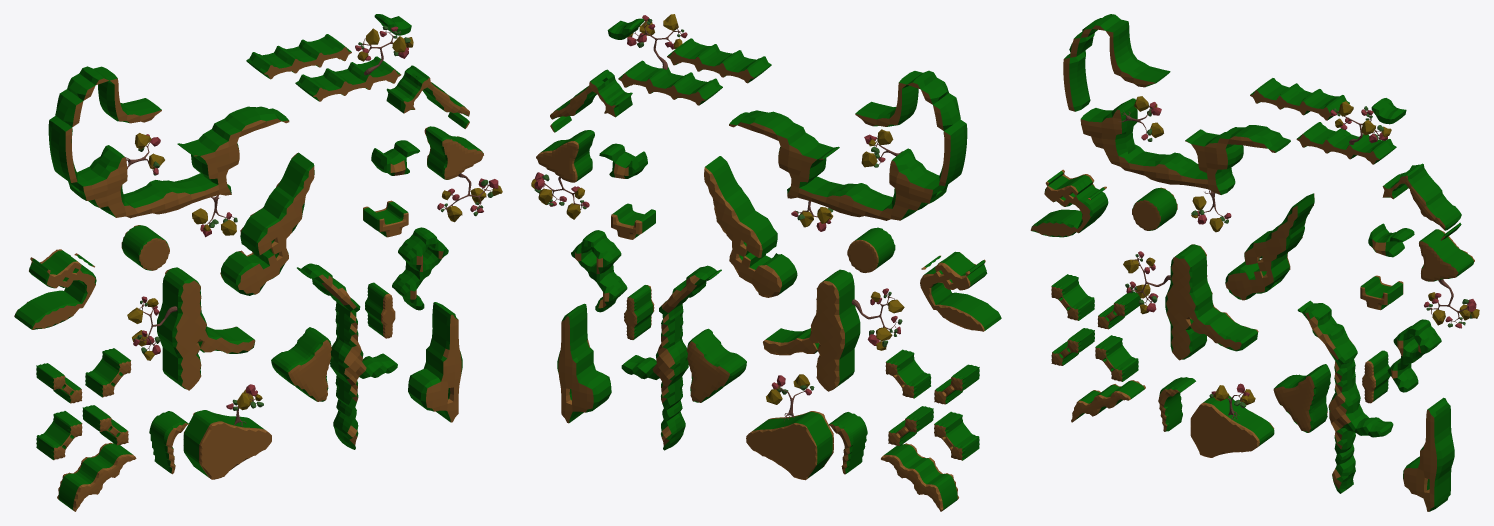
Rendered from JungleExport.fbx.
The picture shows the model from 3 angles, left to right: view 1: azimuth 30°, elevation 25°; view 2: azimuth 150°, elevation 25°; view 3: azimuth 330°, elevation 25°; orthographic projection. The views are drawn at different scales.
Parts seen in each view (by area): view 1: Cylinder.009, Cube.029, Cube.004, Cylinder.021, Cube.035, Cylinder.020, Cube.031, Cylinder.019, Cylinder.017, Cube.026, Cube.042, Cube.039 (+11 smaller); view 2: Cylinder.009, Cube.029, Cube.004, Cylinder.021, Cube.035, Cylinder.020, Cube.031, Cylinder.019, Cylinder.017, Cube.026, Cube.042, Cube.039 (+11 smaller); view 3: Cylinder.009, Cube.004, Cylinder.021, Cube.029, Cube.035, Cylinder.020, Cube.031, Cylinder.019, Cylinder.008, Cube.042, Cube.039, Cube.026 (+12 smaller).
Boxes of the visible parts, x1=… form: Cylinder.009: x1=48, y1=66, x2=289, y2=218; Cube.029: x1=220, y1=152, x2=314, y2=295; Cube.004: x1=157, y1=267, x2=255, y2=390; Cylinder.021: x1=297, y1=263, x2=397, y2=449; Cube.035: x1=183, y1=410, x2=271, y2=479; Cylinder.020: x1=408, y1=302, x2=462, y2=422; Cube.031: x1=14, y1=249, x2=96, y2=329; Cylinder.019: x1=271, y1=327, x2=331, y2=401; Cylinder.017: x1=57, y1=442, x2=136, y2=511; Cube.026: x1=392, y1=227, x2=448, y2=310; Cube.042: x1=246, y1=34, x2=351, y2=79; Cube.039: x1=295, y1=56, x2=401, y2=101; Cylinder.009: x1=729, y1=70, x2=967, y2=220; Cube.029: x1=704, y1=156, x2=797, y2=297; Cube.004: x1=763, y1=269, x2=860, y2=391; Cylinder.021: x1=621, y1=265, x2=721, y2=450; Cube.035: x1=746, y1=411, x2=833, y2=480; Cylinder.020: x1=557, y1=303, x2=611, y2=423; Cube.031: x1=920, y1=251, x2=1001, y2=331; Cylinder.019: x1=686, y1=328, x2=746, y2=402; Cylinder.017: x1=881, y1=443, x2=958, y2=511; Cube.026: x1=571, y1=230, x2=627, y2=312; Cube.042: x1=667, y1=38, x2=771, y2=83; Cube.039: x1=618, y1=60, x2=722, y2=105; Cylinder.009: x1=1063, y1=14, x2=1290, y2=194; Cube.004: x1=1165, y1=244, x2=1258, y2=360; Cylinder.021: x1=1297, y1=300, x2=1393, y2=493; Cube.029: x1=1225, y1=193, x2=1314, y2=300; Cube.035: x1=1190, y1=395, x2=1274, y2=457; Cylinder.020: x1=1403, y1=397, x2=1454, y2=511; Cube.031: x1=1030, y1=169, x2=1108, y2=237; Cylinder.019: x1=1273, y1=364, x2=1330, y2=432; Cylinder.008: x1=1382, y1=163, x2=1461, y2=240; Cube.042: x1=1250, y1=78, x2=1349, y2=120; Cube.039: x1=1296, y1=122, x2=1396, y2=164; Cube.026: x1=1387, y1=319, x2=1441, y2=392.
Size of the model in its own units: 7580 by 6690 by 787.
